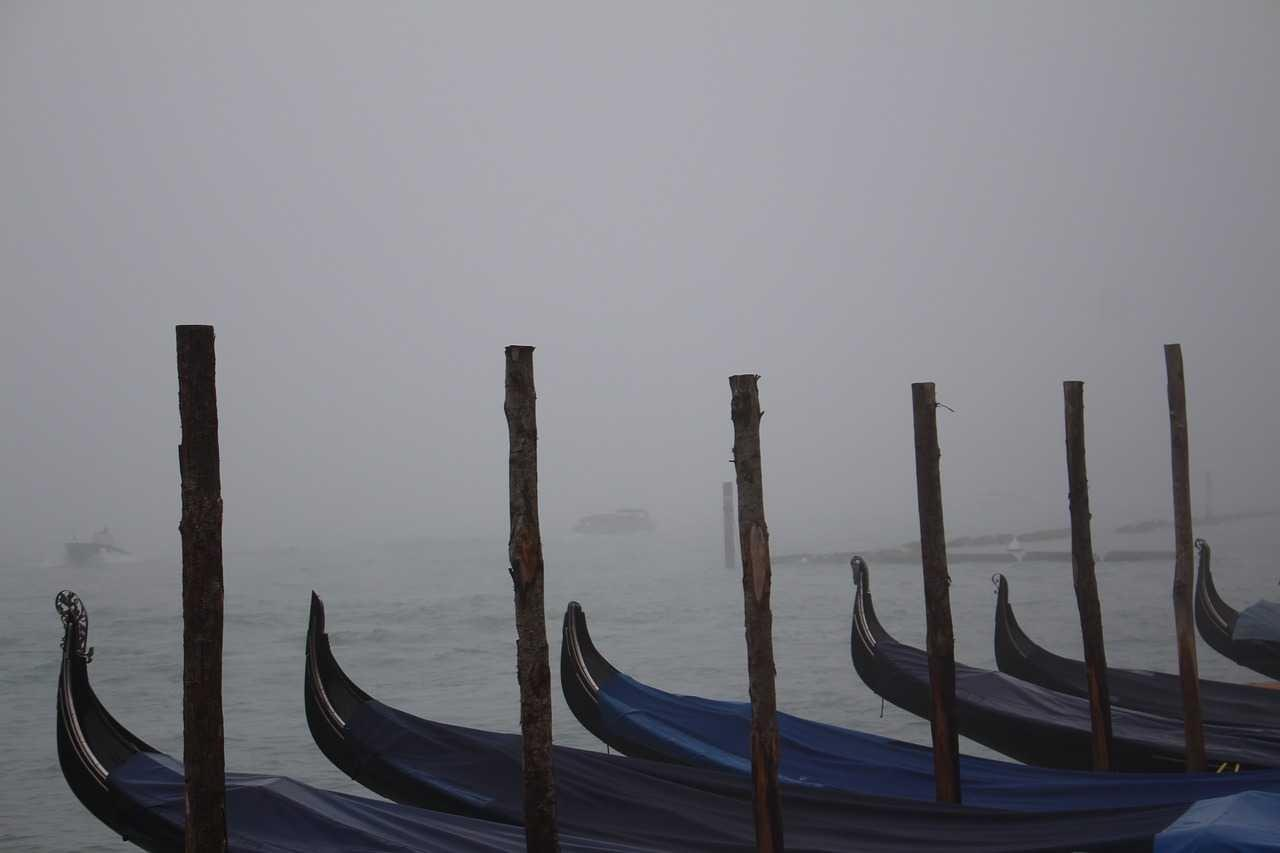kayak: (561, 595, 1275, 840), (56, 591, 537, 849), (847, 555, 1279, 774), (1192, 538, 1279, 682), (64, 525, 132, 564)
